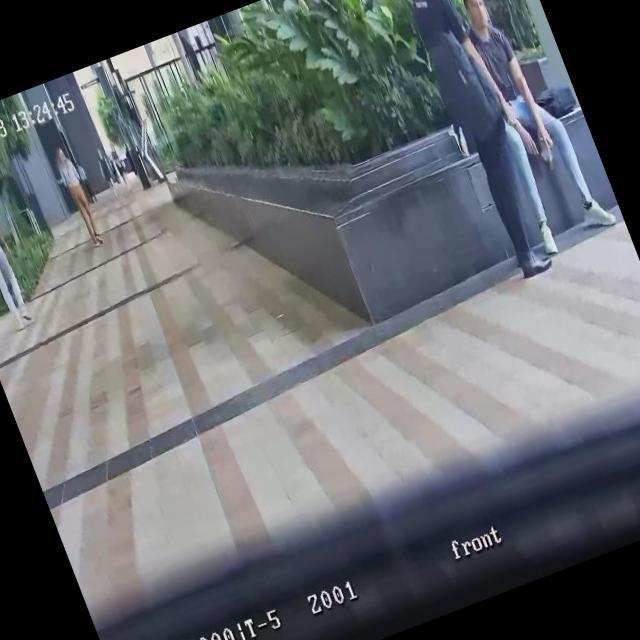person: (384, 0, 577, 284), (448, 0, 620, 254), (0, 167, 39, 333), (50, 142, 107, 252), (73, 158, 99, 206), (93, 149, 119, 197), (110, 154, 130, 186), (105, 154, 122, 186)
